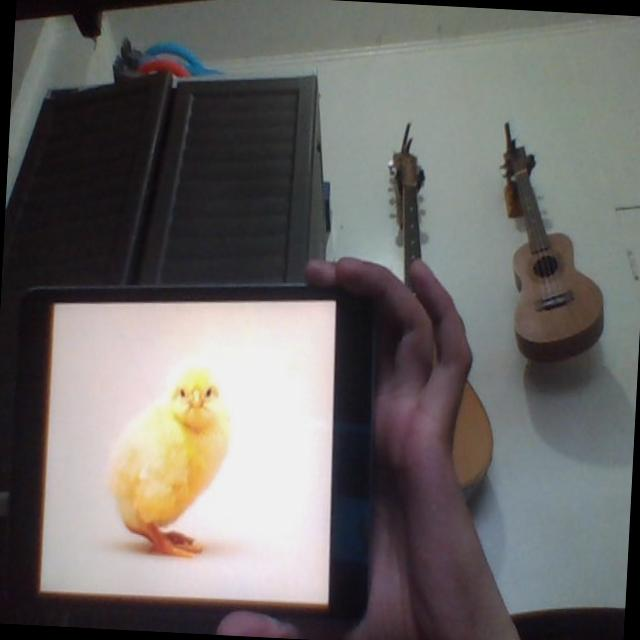Healthy: (103, 358, 236, 567)
